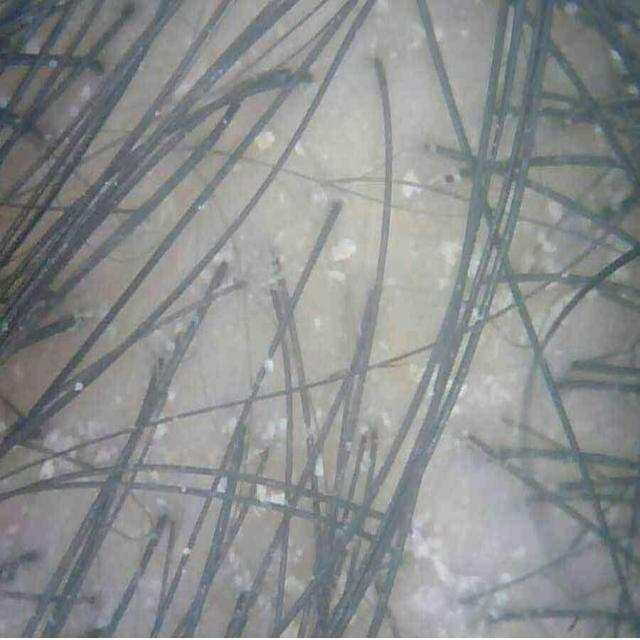d: (408, 521, 475, 598), (200, 242, 232, 284), (438, 241, 461, 290), (229, 550, 251, 592), (44, 428, 78, 452), (490, 286, 514, 315), (331, 239, 356, 264), (285, 575, 309, 600), (401, 170, 421, 199), (256, 485, 285, 505), (262, 417, 286, 441), (255, 132, 275, 151), (548, 201, 565, 223), (326, 267, 346, 284), (154, 419, 169, 441), (361, 450, 376, 472), (221, 417, 238, 435), (40, 460, 55, 479), (314, 453, 324, 478), (458, 382, 469, 399), (312, 317, 325, 331), (166, 388, 176, 402), (265, 360, 274, 373), (74, 381, 84, 392)
